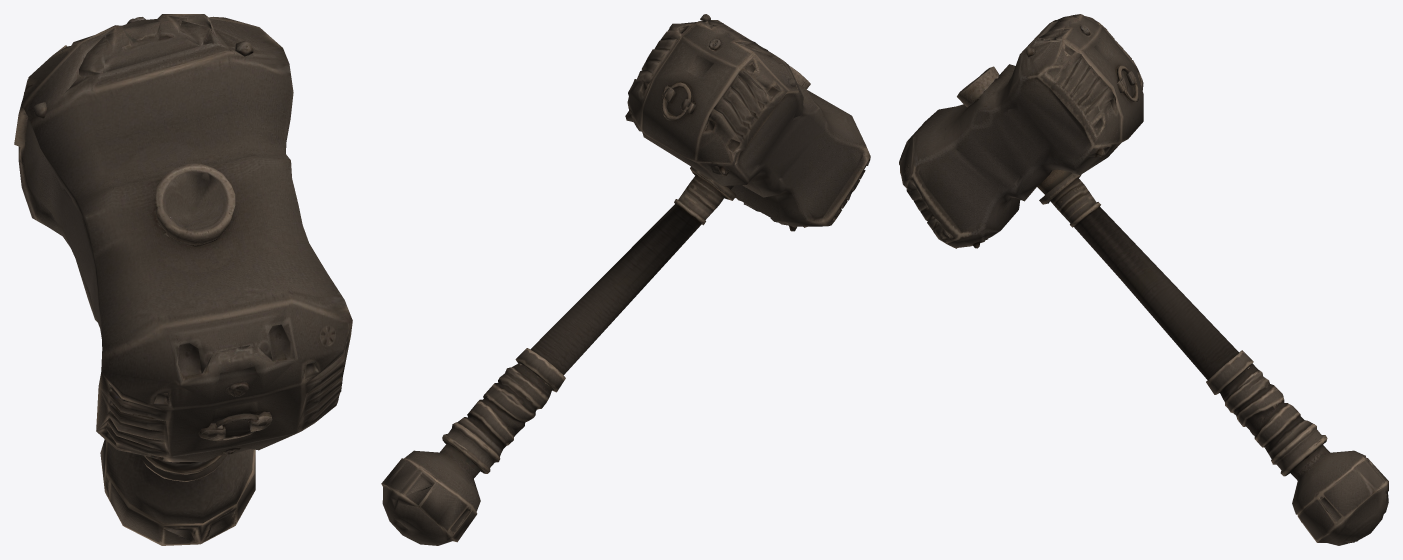
Rendered from hammer.glb.
3 renders of one model, left to right at view 1: azimuth 30°, elevation 25°; view 2: azimuth 150°, elevation 25°; view 3: azimuth 270°, elevation 25°, orthographic. The views are drawn at different scales.
Parts seen in each view (by area): view 1: tripo_node_767b0f40-c204-486f-8215-7a7e8f19fd39; view 2: tripo_node_767b0f40-c204-486f-8215-7a7e8f19fd39; view 3: tripo_node_767b0f40-c204-486f-8215-7a7e8f19fd39.
Part boxes in pixels (<box>): tripo_node_767b0f40-c204-486f-8215-7a7e8f19fd39: <box>14,14,352,545</box>; tripo_node_767b0f40-c204-486f-8215-7a7e8f19fd39: <box>381,14,870,545</box>; tripo_node_767b0f40-c204-486f-8215-7a7e8f19fd39: <box>899,14,1388,545</box>.
Size of the model in its own units: 0.6699 by 0.998 by 0.998.
1 material, 1 textured.
